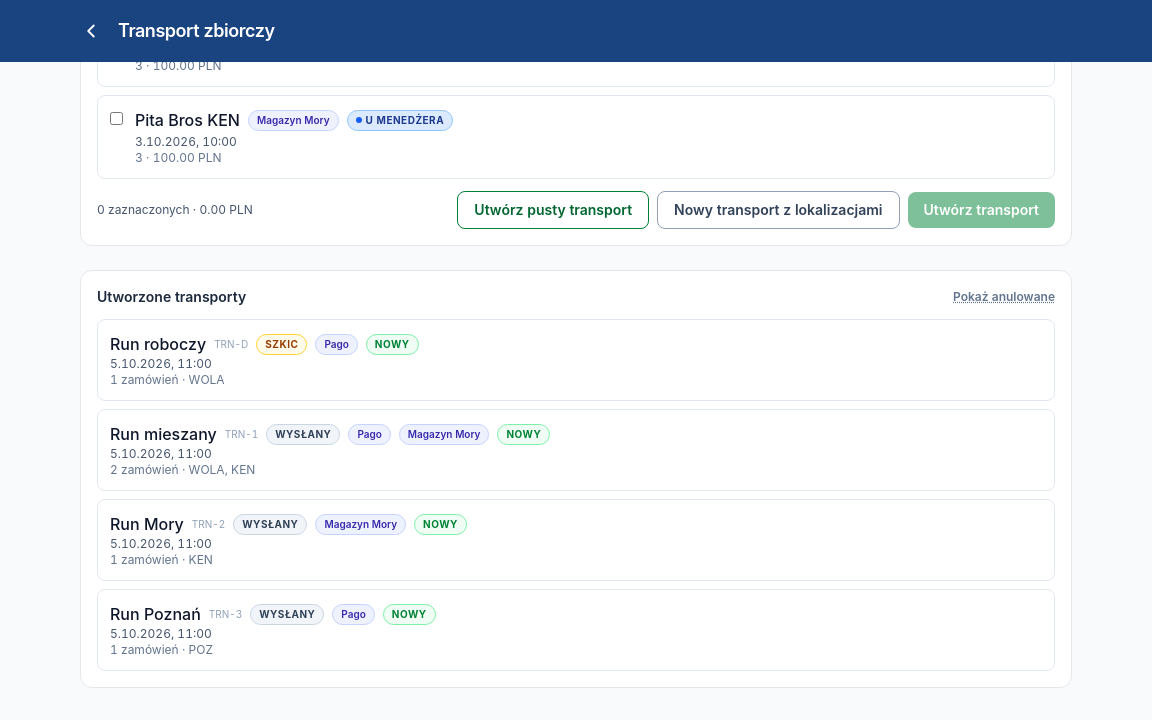
Test: TransportPage — send panel wiring › unsaved matrix quantities disable both sends
The width and height of the screenshot is (1152, 720).
(page scrolled)
Click the button "Run roboczy": (158, 344) [97,319,1055,401]
(page scrolled)
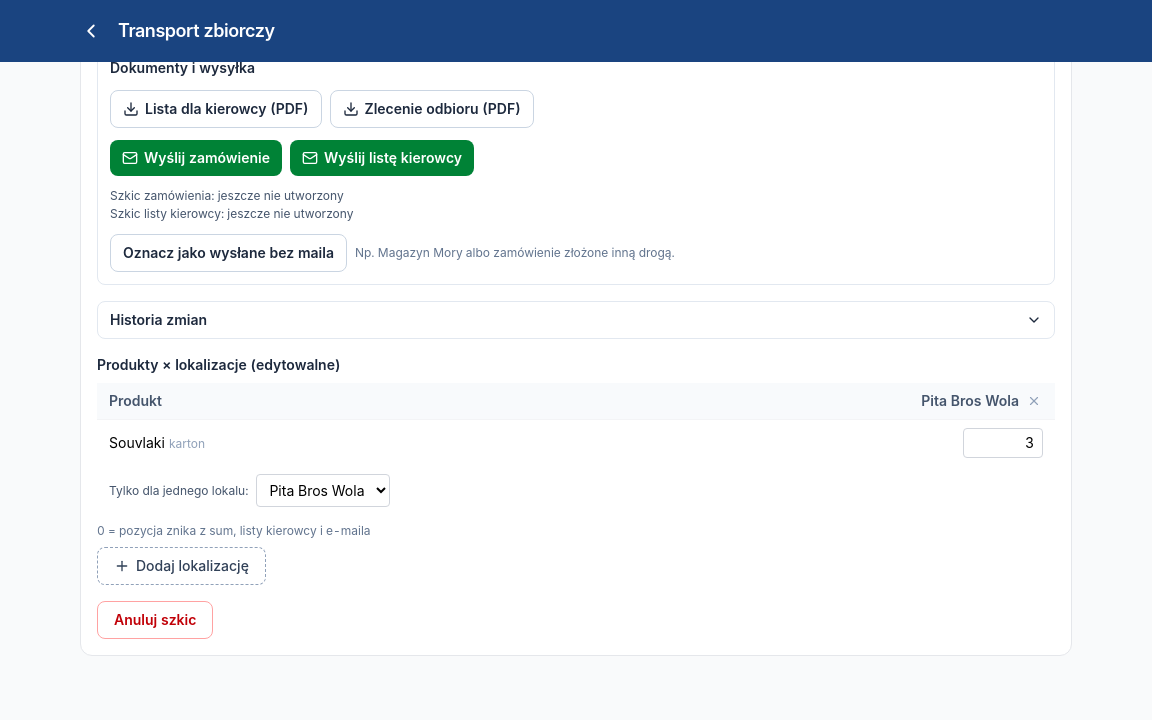
Now the button "Wyślij zamówienie" is enabled, box [110,140,282,176]
Now the button "Wyślij listę kierowcy" is enabled, box [290,140,474,176]
Replace the text in the field named "Souvlaki — Pita Bros Wola" with "5": (1003, 443) [963,428,1043,458]
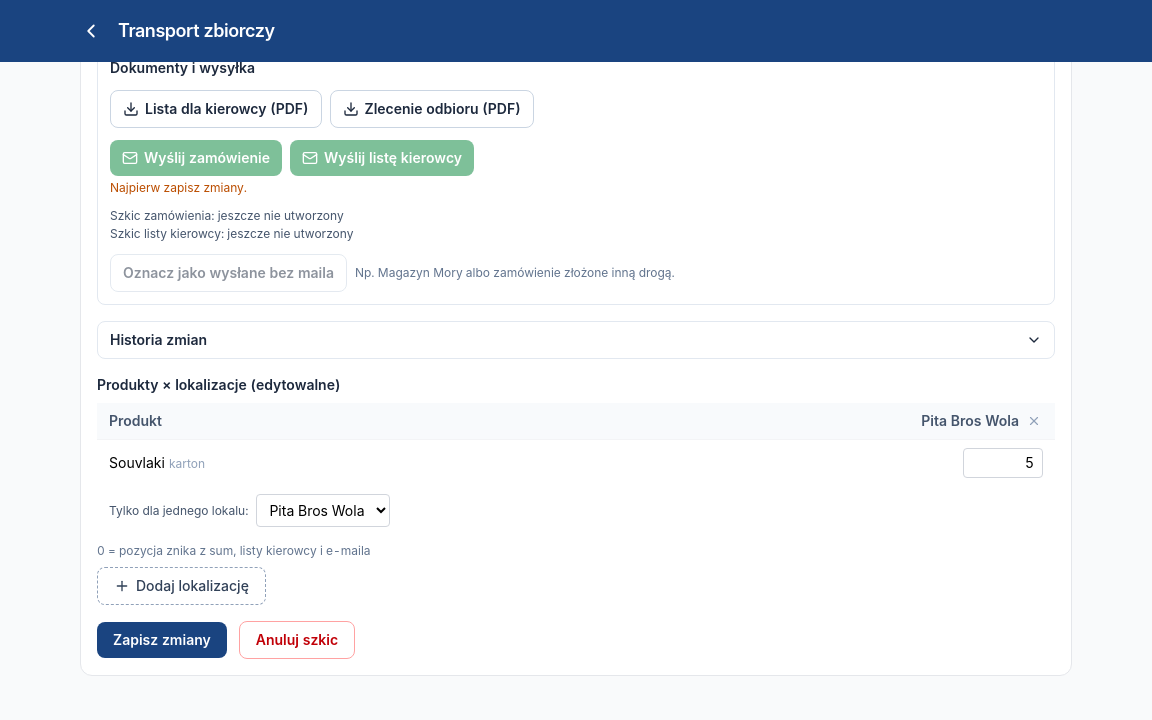
Now the button "Wyślij zamówienie" is disabled, box [110,140,282,176]
Now the button "Wyślij listę kierowcy" is disabled, box [290,140,474,176]
Now the list item "Najpierw zapisz zmiany." is shown, box [110,180,247,195]
